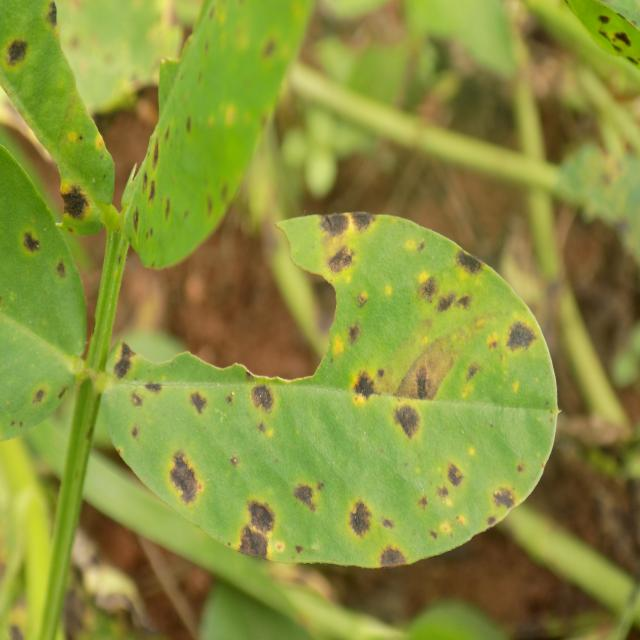Ground nut_tikka leaf spot: (107, 209, 558, 565)
